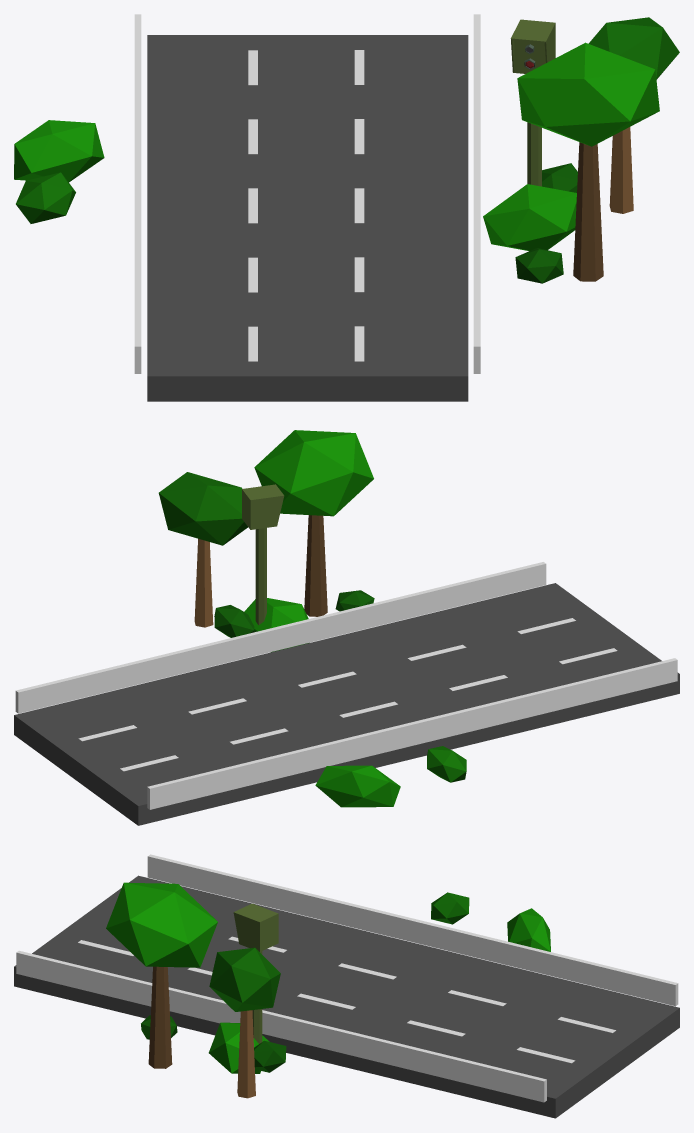
The model's file is highway_03_2.fbx.
The picture shows the model from 3 angles, top to bottom: view 1: azimuth 30°, elevation 25°; view 2: azimuth 150°, elevation 25°; view 3: azimuth 270°, elevation 25°; orthographic projection. The views are drawn at different scales.
Visible parts, largest first — view 1: highway03.007, treeCrown5, leitPlanks.007, bushShort, bushMiddle3, treeStump4, treeCrown6, lightninger, bushMiddle2, laneMarkingsRight.006, laneMarkingsLeft.007, treeStump5 (+2 smaller); view 2: highway03.007, leitPlanks.007, treeCrown5, treeCrown6, bushMiddle3, lightninger, treeStump4, treeStump5, laneMarkingsRight.006, bushShort, laneMarkingsLeft.007, bushMiddle2 (+1 smaller); view 3: highway03.007, leitPlanks.007, treeCrown5, treeCrown6, lightninger, treeStump4, treeStump5, bushMiddle3, bushShort, laneMarkingsRight.006, bushMiddle2, laneMarkingsLeft.007 (+1 smaller).
Boxes of the visible parts, x1=… form: highway03.007: x1=147, y1=35, x2=468, y2=401; treeCrown5: x1=517, y1=42, x2=659, y2=146; leitPlanks.007: x1=134, y1=14, x2=480, y2=373; bushShort: x1=483, y1=184, x2=576, y2=250; bushMiddle3: x1=14, y1=120, x2=104, y2=182; treeStump4: x1=573, y1=142, x2=603, y2=281; treeCrown6: x1=588, y1=17, x2=679, y2=79; lightninger: x1=510, y1=19, x2=555, y2=186; bushMiddle2: x1=16, y1=172, x2=75, y2=223; laneMarkingsRight.006: x1=354, y1=50, x2=364, y2=361; laneMarkingsLeft.007: x1=248, y1=50, x2=257, y2=361; treeStump5: x1=609, y1=127, x2=633, y2=213; highway03.007: x1=14, y1=583, x2=679, y2=825; leitPlanks.007: x1=15, y1=562, x2=677, y2=809; treeCrown5: x1=254, y1=430, x2=373, y2=516; treeCrown6: x1=158, y1=472, x2=247, y2=545; bushMiddle3: x1=315, y1=765, x2=400, y2=807; lightninger: x1=242, y1=484, x2=284, y2=625; treeStump4: x1=304, y1=515, x2=327, y2=616; treeStump5: x1=194, y1=538, x2=213, y2=627; laneMarkingsRight.006: x1=78, y1=618, x2=575, y2=741; bushShort: x1=244, y1=598, x2=309, y2=652; laneMarkingsLeft.007: x1=120, y1=648, x2=617, y2=771; bushMiddle2: x1=427, y1=746, x2=466, y2=782; highway03.007: x1=14, y1=875, x2=679, y2=1118; leitPlanks.007: x1=16, y1=854, x2=678, y2=1102; treeCrown5: x1=106, y1=882, x2=217, y2=967; treeCrown6: x1=209, y1=947, x2=280, y2=1011; lightninger: x1=233, y1=903, x2=278, y2=1043; treeStump4: x1=148, y1=966, x2=172, y2=1068; treeStump5: x1=237, y1=1010, x2=255, y2=1098; bushMiddle3: x1=507, y1=908, x2=550, y2=951; bushShort: x1=208, y1=1022, x2=269, y2=1073; laneMarkingsRight.006: x1=78, y1=940, x2=575, y2=1063; bushMiddle2: x1=431, y1=892, x2=469, y2=924; laneMarkingsLeft.007: x1=228, y1=936, x2=615, y2=1033.
Size of the model in its own units: 85.28 by 31.73 by 105.
